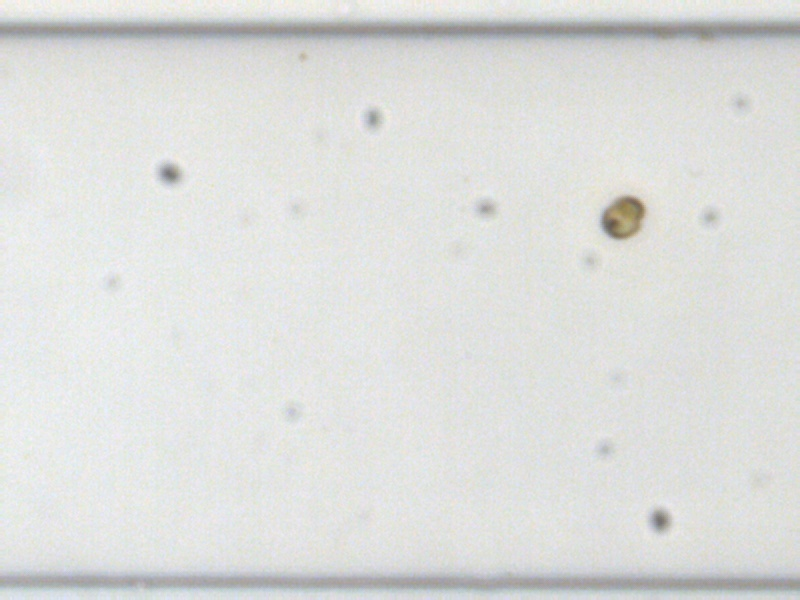Effrenium: (598, 193, 646, 241)
